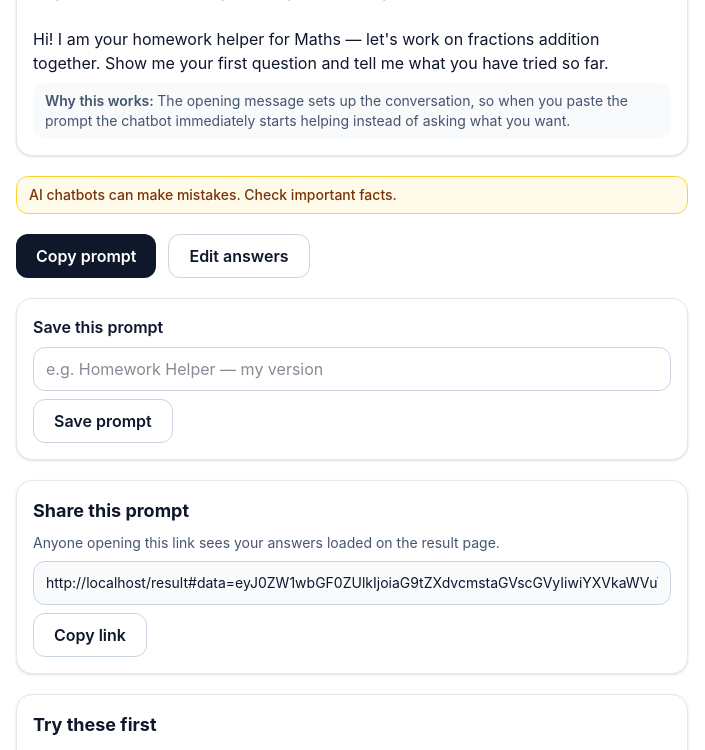
ResultPage › renders the prompt, AI note, and actions for valid state
The image size is (705, 750).
(page scrolled)
Expected: the text "AI chatbots can make mistakes. Check important facts." is shown, [16,176,688,214]
Expected: the button "Copy prompt" is shown, [16,234,156,278]
# Saving with a name confirms without crashing.
Type "My maths bot" into the field with placeholder "e.g. Homework Helper — my version" at x=352, y=369, box [33,347,671,391]
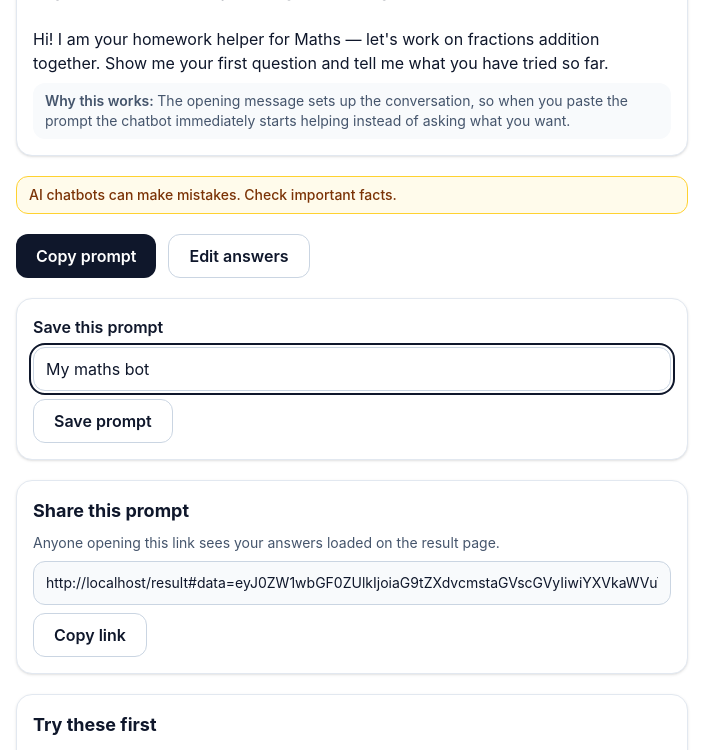
Click the button "Save prompt" at x=103, y=421, box [33,399,173,443]
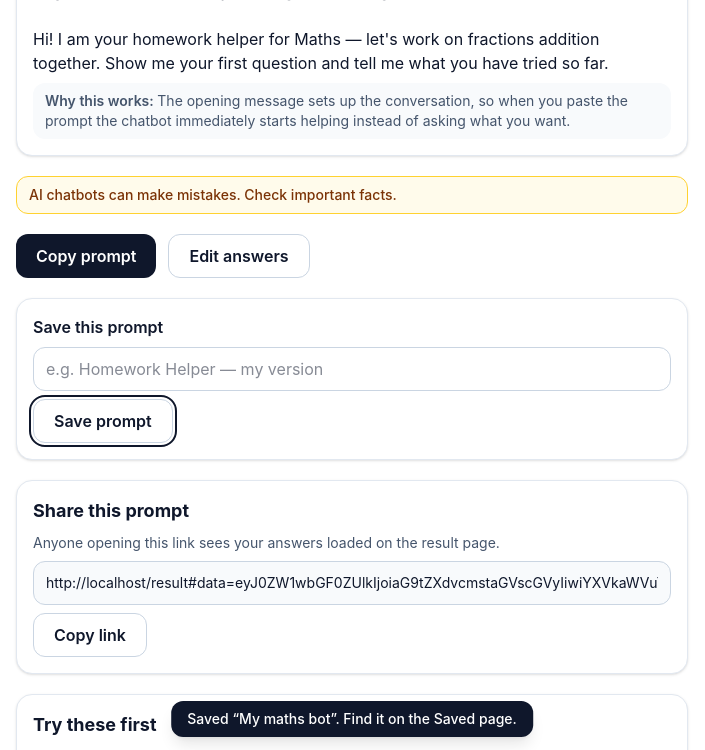
Result: the text "Saved “My maths bot”. Find it on the Saved page." is shown at [171,701,533,737]
